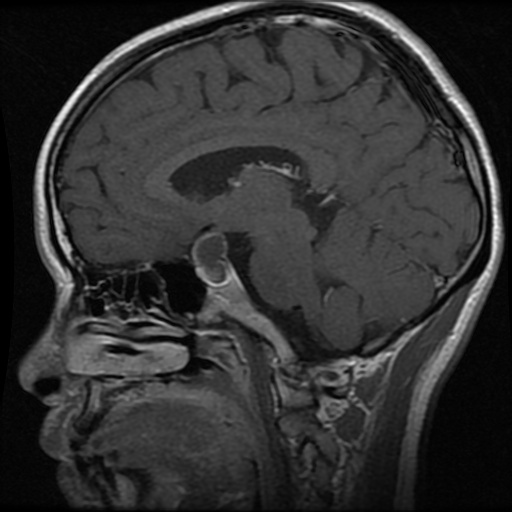pituitary: (192, 234, 233, 285)
